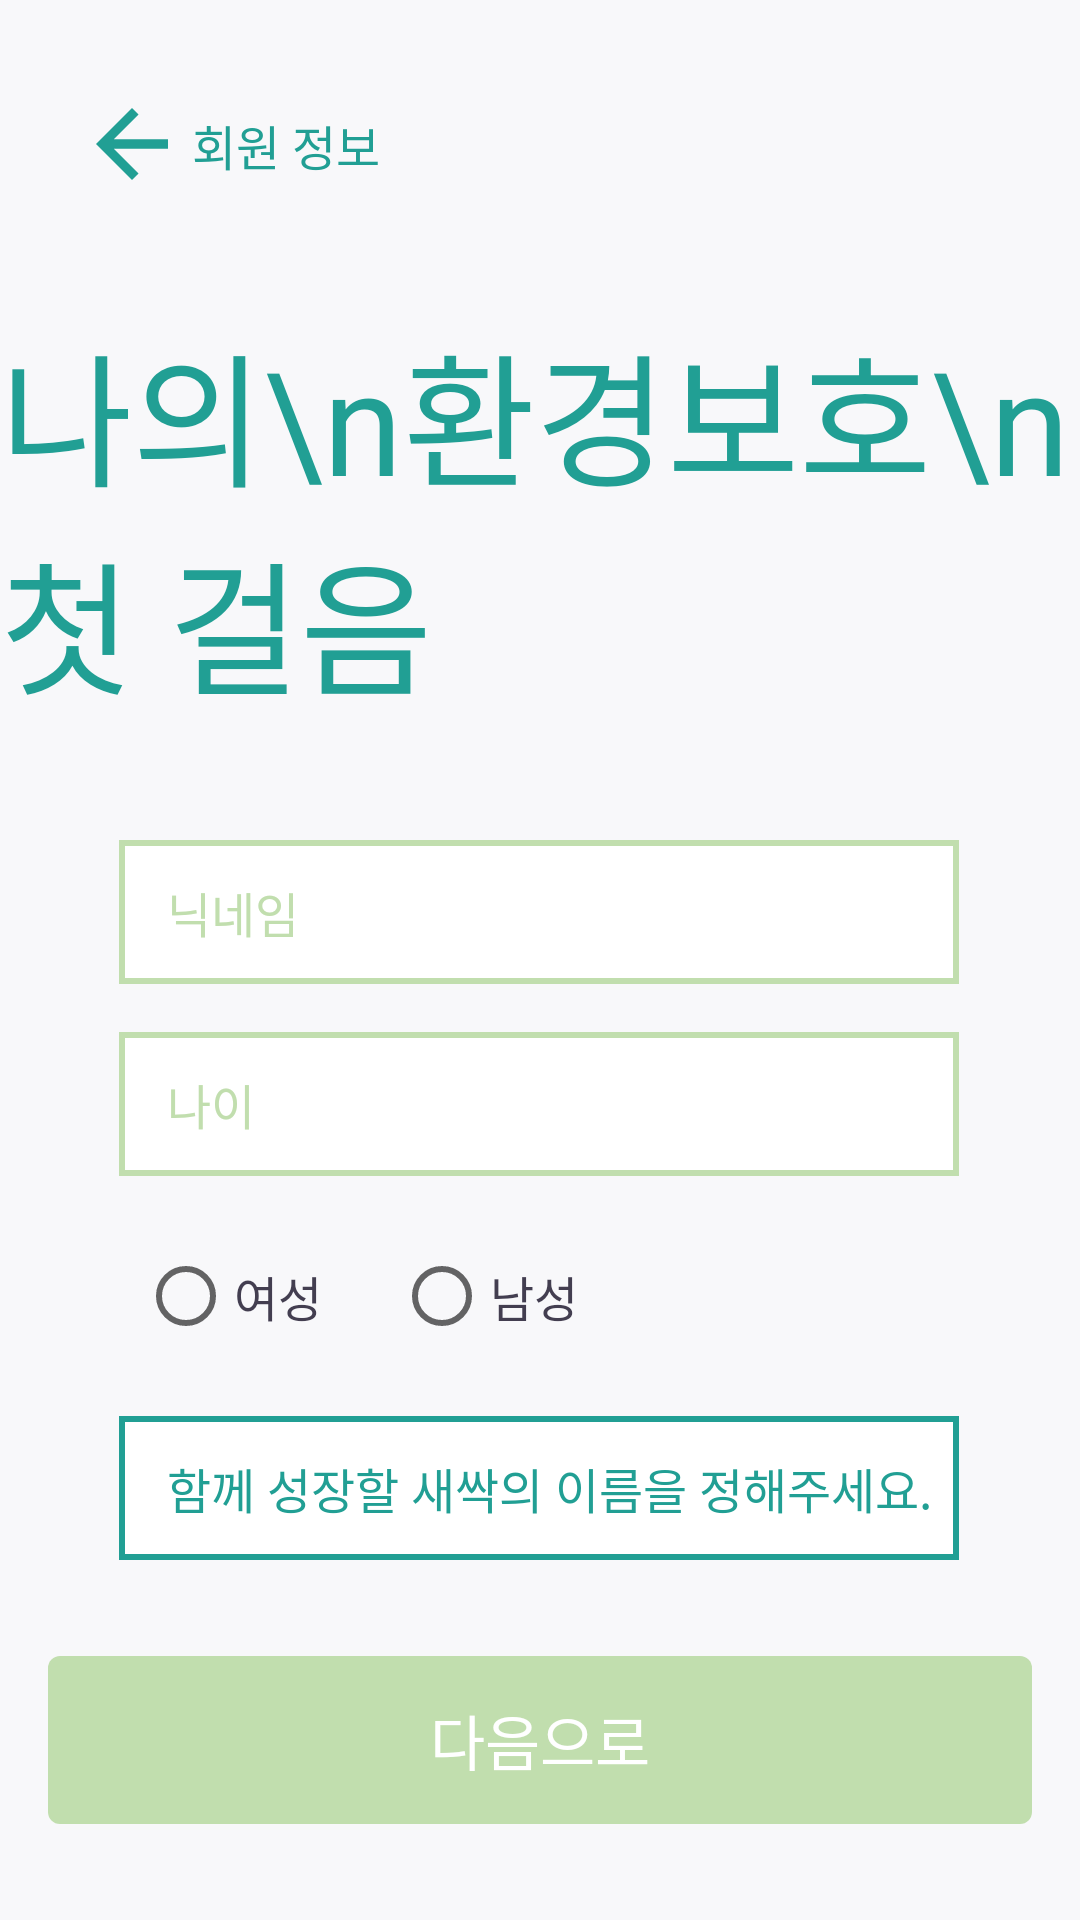

Icons on this 1080w x 1920h Android screen, each with its box as (x1, y1, x2, y2):
backward arrow: (96, 108, 168, 180)
